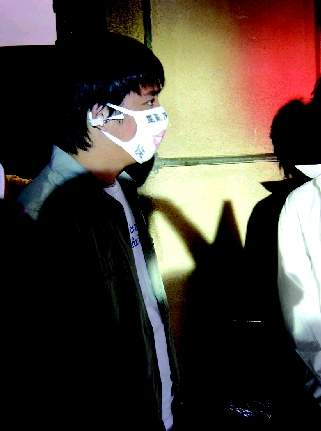face_mask: (125, 77, 169, 171)
